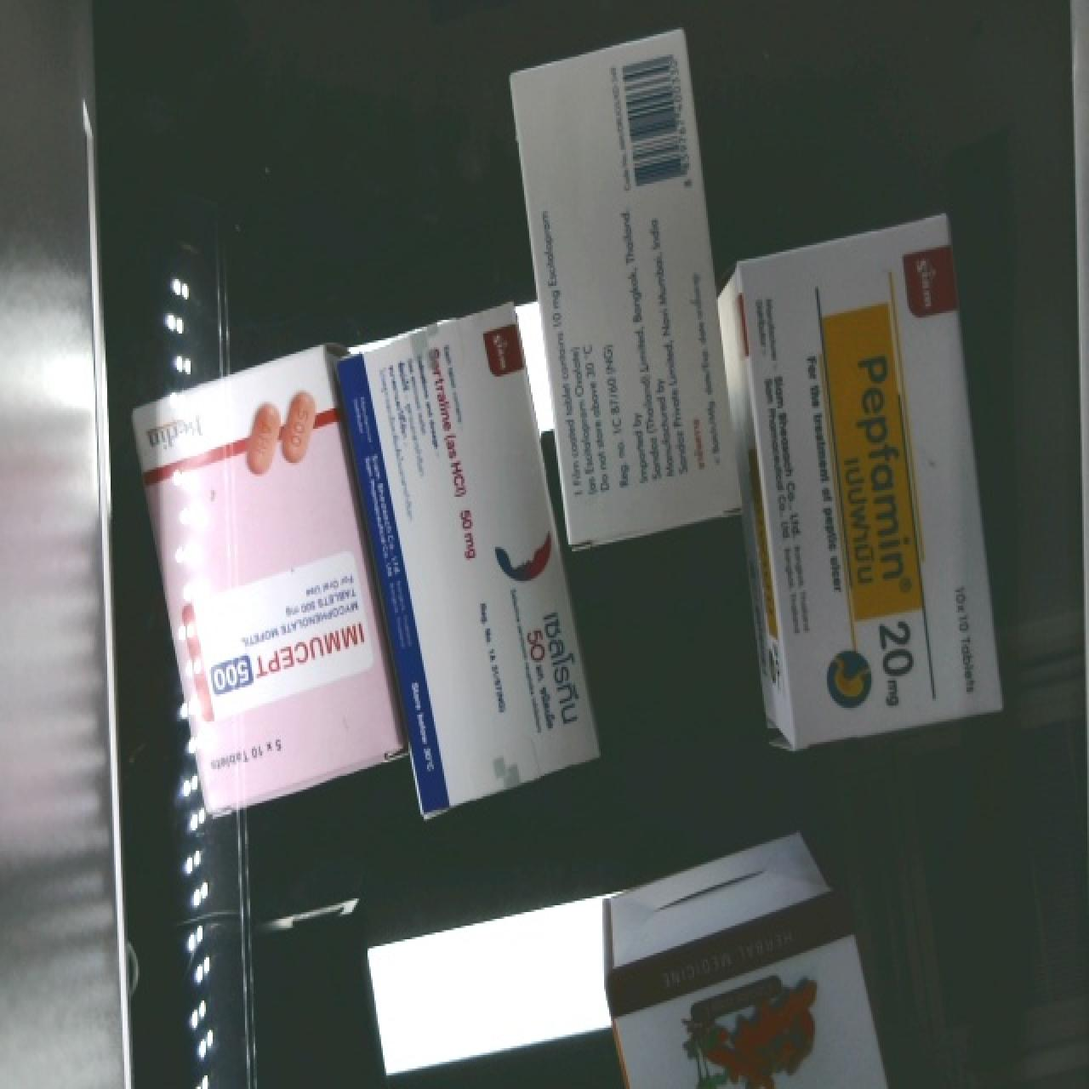medicine_label_obb: (827, 318, 938, 728), (191, 601, 385, 719), (508, 604, 598, 754)
